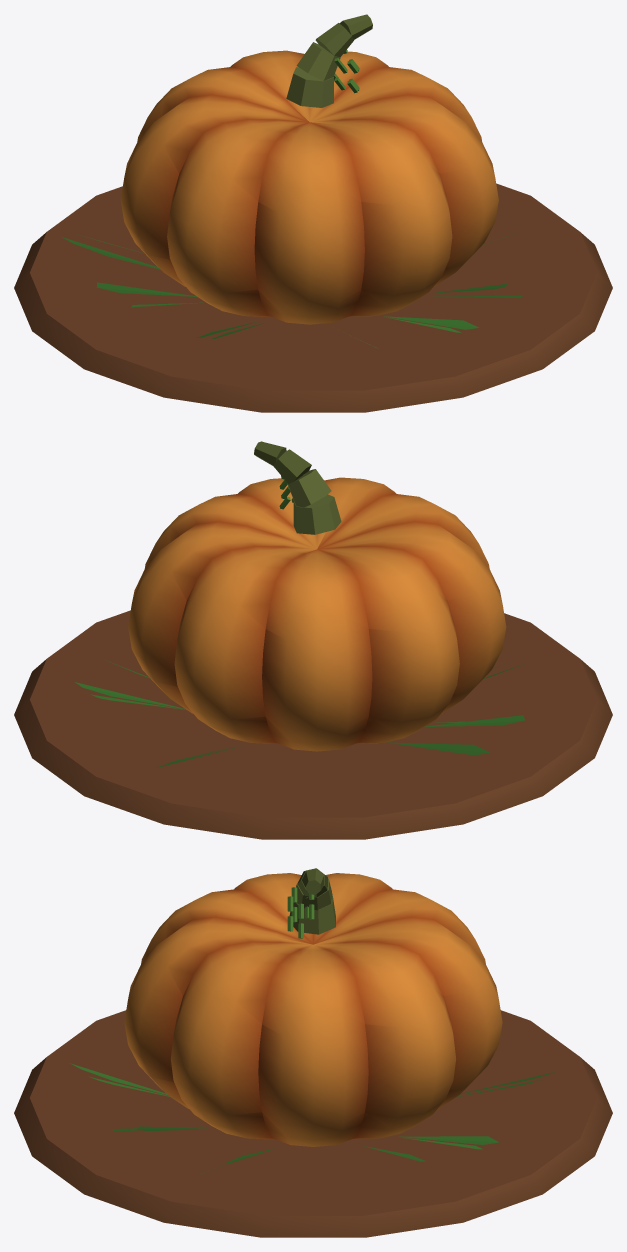
The model's file is pumpkin.glb.
3 renders of one model, top to bottom at view 1: azimuth 30°, elevation 25°; view 2: azimuth 150°, elevation 25°; view 3: azimuth 270°, elevation 25°, orthographic.
Parts seen in each view (by area): view 1: crop-pumpkin-giant, crop-pumpkin-giant-2; view 2: crop-pumpkin-giant, crop-pumpkin-giant-2; view 3: crop-pumpkin-giant, crop-pumpkin-giant-2.
Boxes of the visible parts, x1,y1,x2,y2 form: crop-pumpkin-giant: (18, 14, 608, 406); crop-pumpkin-giant-2: (14, 236, 612, 412); crop-pumpkin-giant: (18, 441, 608, 833); crop-pumpkin-giant-2: (14, 662, 612, 839); crop-pumpkin-giant: (18, 868, 608, 1231); crop-pumpkin-giant-2: (14, 1066, 612, 1237).
Size of the model in its own units: 5.61 by 2.82 by 5.7.
